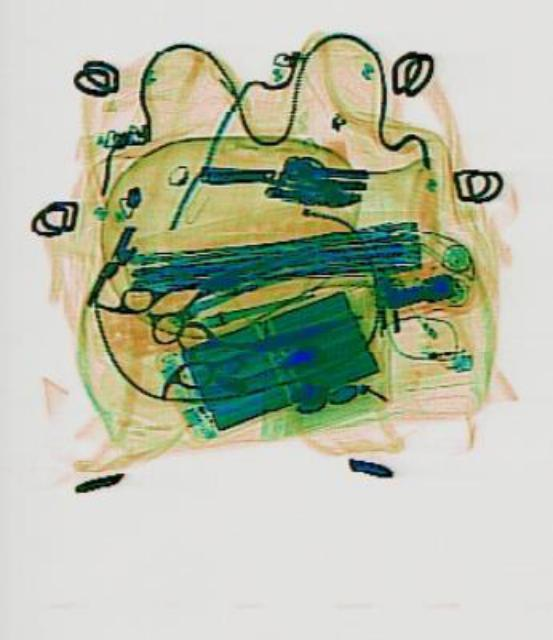Scissors: (114, 237, 249, 353), (168, 305, 307, 387)
